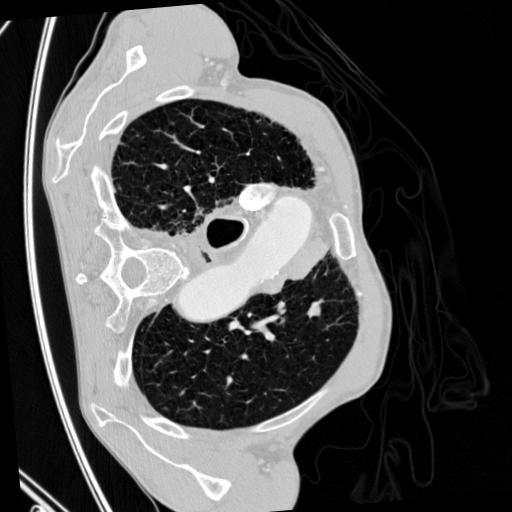nodule: (307, 302, 325, 320)
